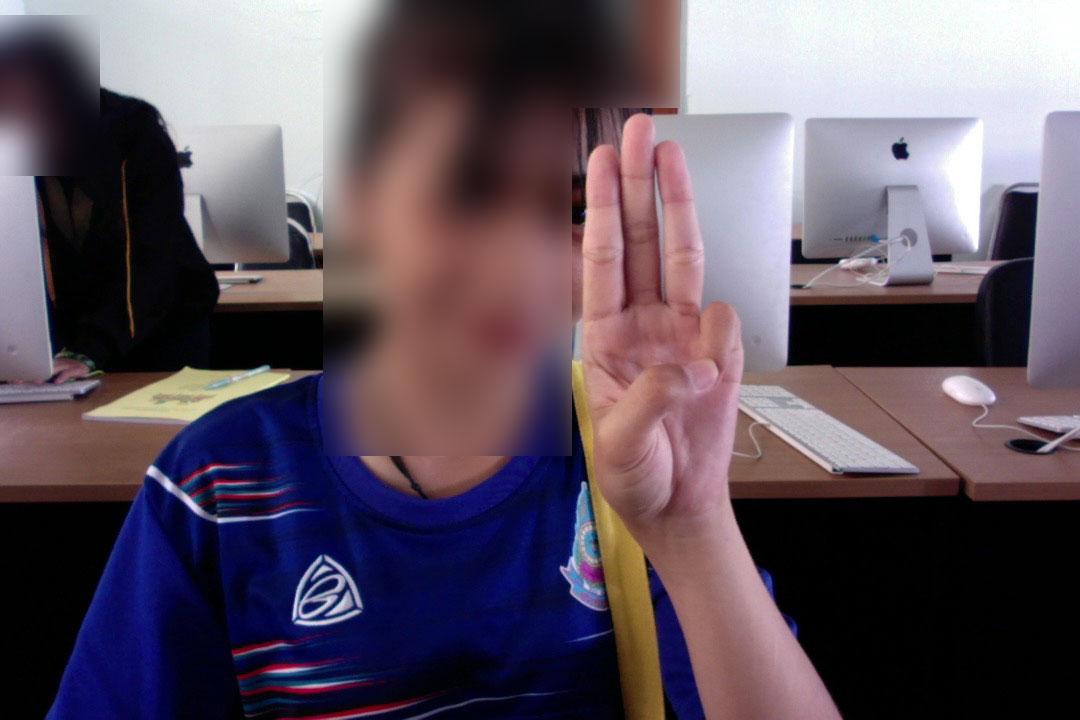wor: (556, 99, 779, 540)
